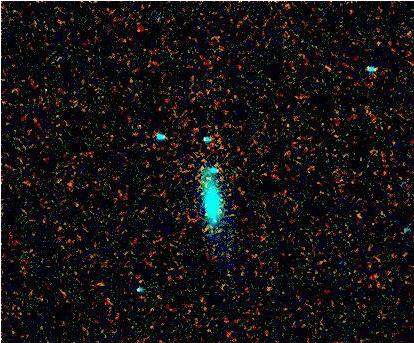star: (187, 178, 217, 208)
